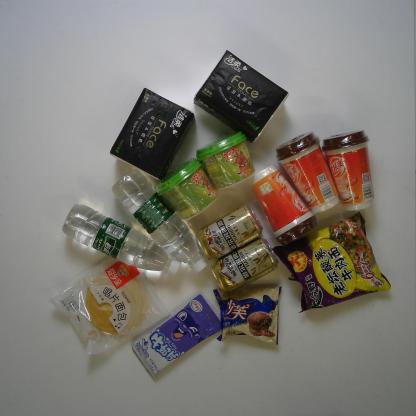Alcohol: (194, 203, 265, 261), (211, 238, 279, 292)
Candy: (129, 294, 222, 380)
Dessert: (48, 250, 174, 359), (212, 282, 283, 348)
Drink: (109, 168, 209, 275), (61, 201, 183, 277)
Instant Drink: (247, 162, 318, 246), (275, 128, 340, 215), (321, 127, 377, 212), (154, 158, 218, 220), (195, 130, 255, 192)
Instant Noodles: (272, 211, 392, 314)
Tissue: (192, 48, 290, 144), (106, 87, 196, 181)
